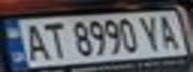0: (118, 16, 142, 53)
8: (69, 17, 90, 56)
9: (87, 17, 109, 56), (103, 17, 124, 55)
A: (18, 20, 51, 62), (151, 12, 184, 51)
T: (36, 20, 69, 60)
Y: (136, 12, 166, 52)
